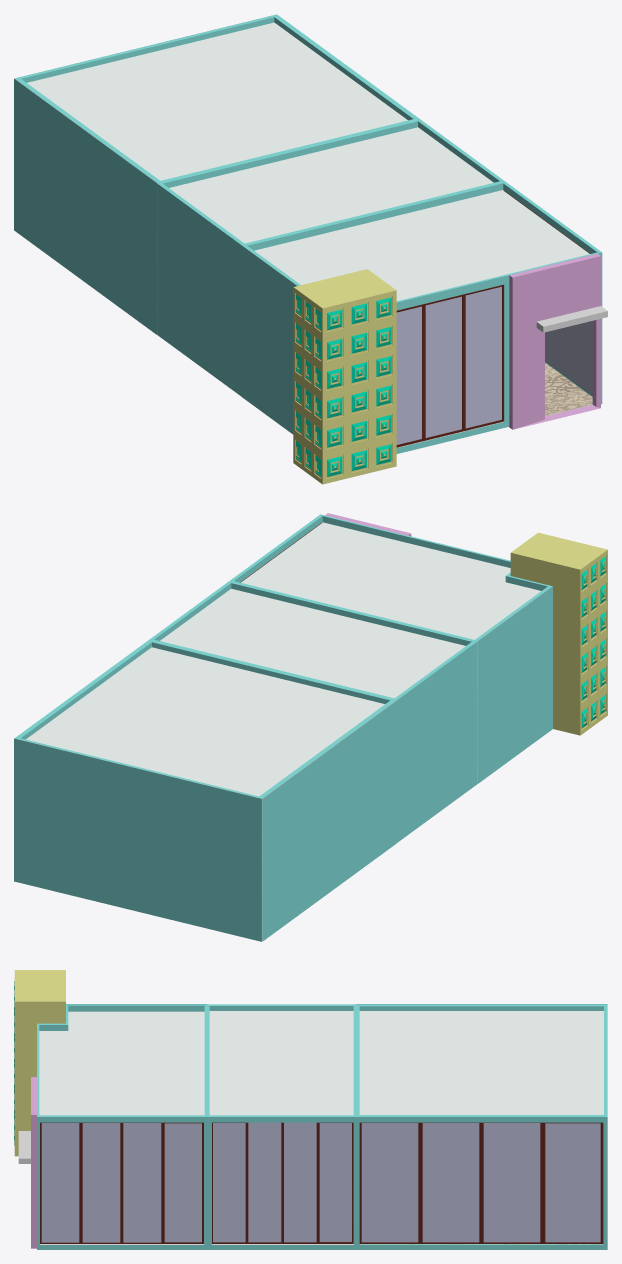
File: Virtual Mart.glb
3 views of the same model, one above another, from view 1: azimuth 30°, elevation 25°; view 2: azimuth 150°, elevation 25°; view 3: azimuth 270°, elevation 25° (orthographic). The views are drawn at different scales.
Visible parts, largest first — view 1: Cube, Cube.009, Cube.001, Cube.007, Cube.002, Cube.010, Cube.005; view 2: Cube, Cube.011, Cube.009, Cube.001; view 3: Cube, Cube.008, Cube.010, Cube.043, Cube.001, Cube.002, Cube.005.
Part boxes in pixels (x1=…): Cube: x1=14, y1=14, x2=602, y2=453; Cube.009: x1=14, y1=79, x2=156, y2=334; Cube.001: x1=293, y1=269, x2=396, y2=484; Cube.007: x1=396, y1=284, x2=503, y2=447; Cube.002: x1=509, y1=253, x2=600, y2=429; Cube.010: x1=503, y1=190, x2=592, y2=394; Cube.005: x1=536, y1=306, x2=607, y2=332; Cube: x1=14, y1=514, x2=552, y2=941; Cube.011: x1=14, y1=738, x2=261, y2=941; Cube.009: x1=262, y1=700, x2=397, y2=941; Cube.001: x1=510, y1=532, x2=607, y2=735; Cube: x1=37, y1=1004, x2=607, y2=1249; Cube.008: x1=359, y1=1122, x2=603, y2=1243; Cube.010: x1=40, y1=1122, x2=203, y2=1243; Cube.043: x1=212, y1=1122, x2=353, y2=1243; Cube.001: x1=14, y1=970, x2=65, y2=1156; Cube.002: x1=31, y1=1077, x2=37, y2=1248; Cube.005: x1=18, y1=1131, x2=31, y2=1163.
Size of the model in its own units: 18.04 by 10.39 by 36.04.
9 materials, 2 textured.
